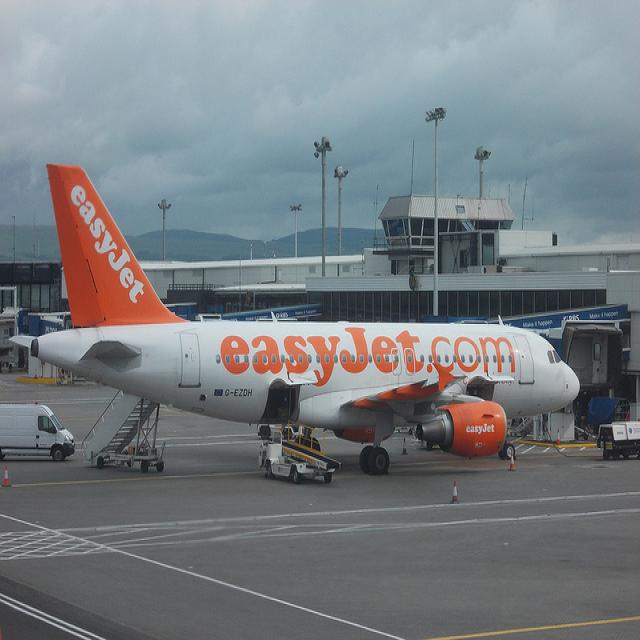Vehicle: (258, 421, 342, 484), (1, 400, 76, 463), (596, 420, 640, 461)
